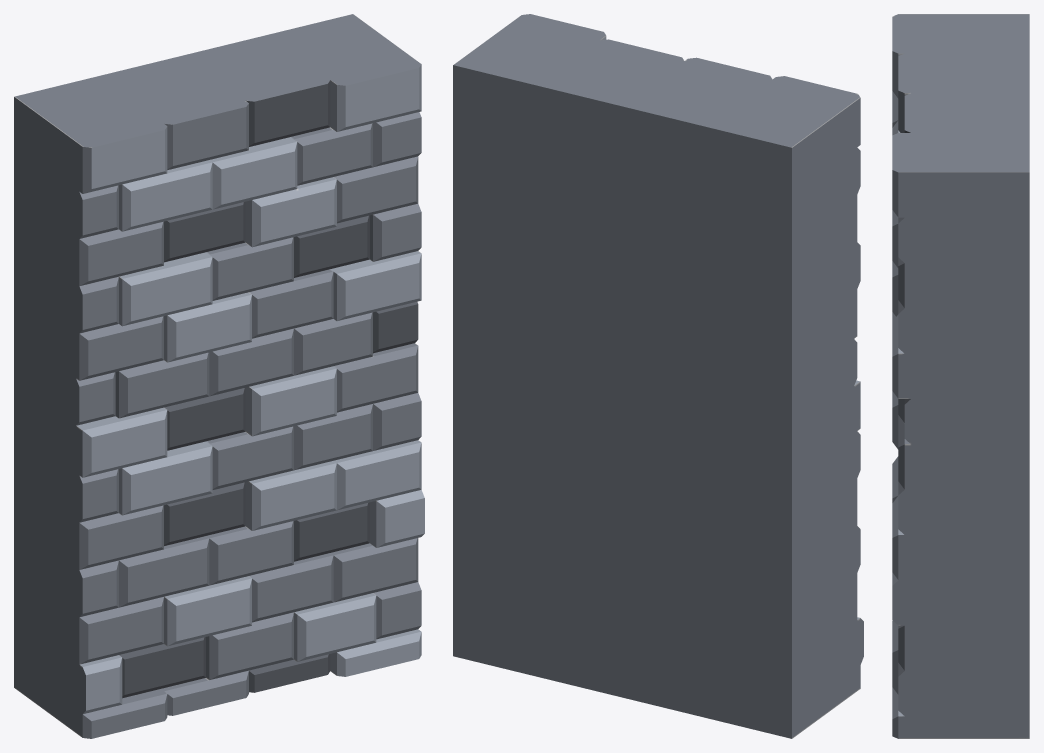
The model's file is HorzFIller_0.fbx.
The picture shows the model from 3 angles, left to right: view 1: azimuth 30°, elevation 25°; view 2: azimuth 150°, elevation 25°; view 3: azimuth 270°, elevation 25°; orthographic projection. The views are drawn at different scales.
Parts seen in each view (by area): view 1: HorzFiller.086; view 2: HorzFiller.086; view 3: HorzFiller.086.
Boxes of the visible parts, x1=… form: HorzFiller.086: x1=14, y1=14, x2=424, y2=738; HorzFiller.086: x1=453, y1=14, x2=863, y2=738; HorzFiller.086: x1=892, y1=14, x2=1029, y2=738.
Bounding box in the file's own units: 600 × 1000 × 220.
